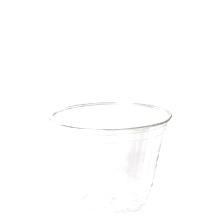glass: (39, 96, 176, 219)
